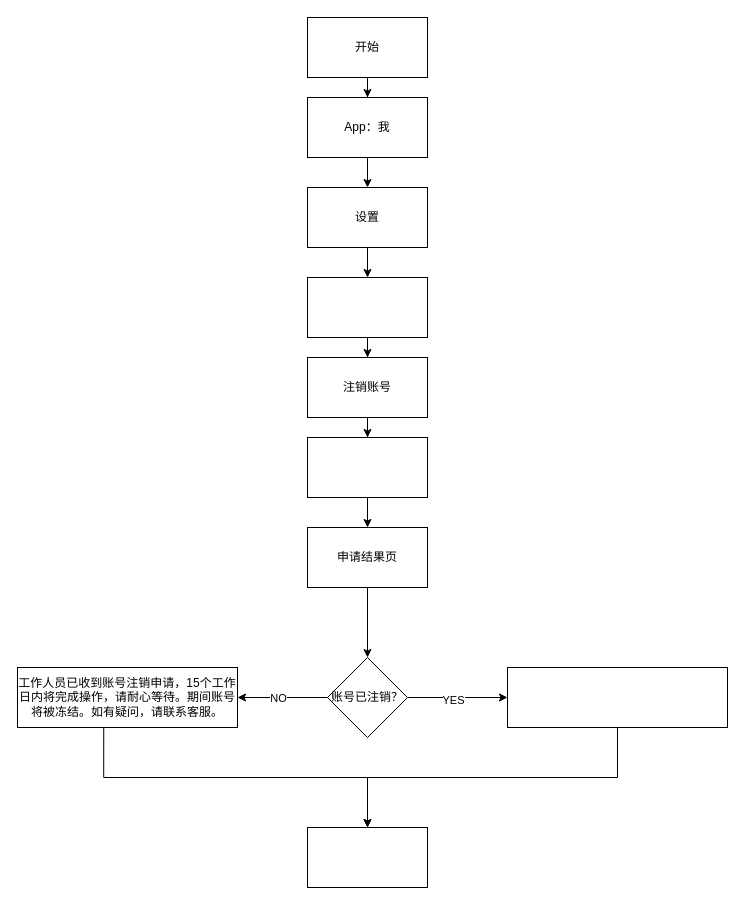
This 745x905 diagram has some shape labels left out. The centre of each missing label's shape, as x and y in pixels:
更多: point 367,307
点击：申请注销: point 367,467
登陆页: point 367,857
账号已注销: point 617,697
